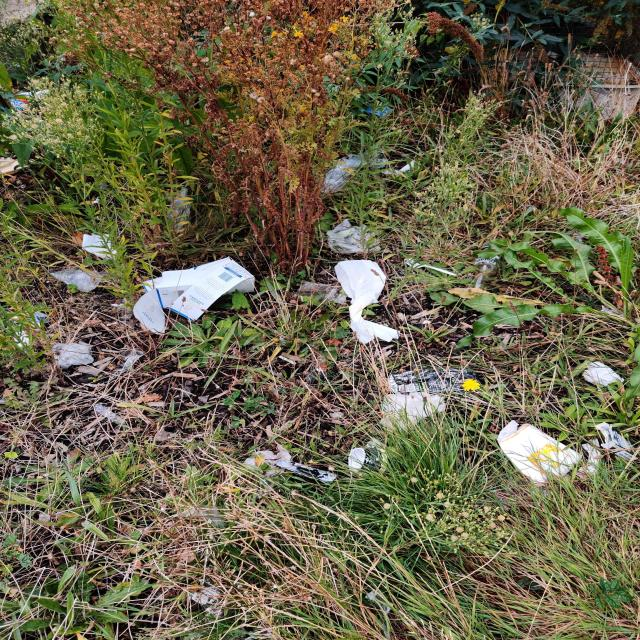litter: (132, 255, 261, 338), (494, 416, 586, 490), (334, 258, 405, 350), (241, 447, 340, 487), (376, 392, 449, 440), (318, 154, 394, 195), (387, 366, 483, 396), (49, 264, 119, 297), (325, 217, 386, 254), (160, 183, 196, 236), (591, 419, 633, 463), (1, 87, 55, 120), (345, 445, 395, 480), (296, 280, 347, 308), (580, 361, 630, 389), (47, 343, 96, 371), (177, 503, 229, 529), (80, 230, 122, 262), (186, 583, 232, 611), (577, 437, 603, 479), (90, 403, 129, 426), (359, 99, 392, 119)
